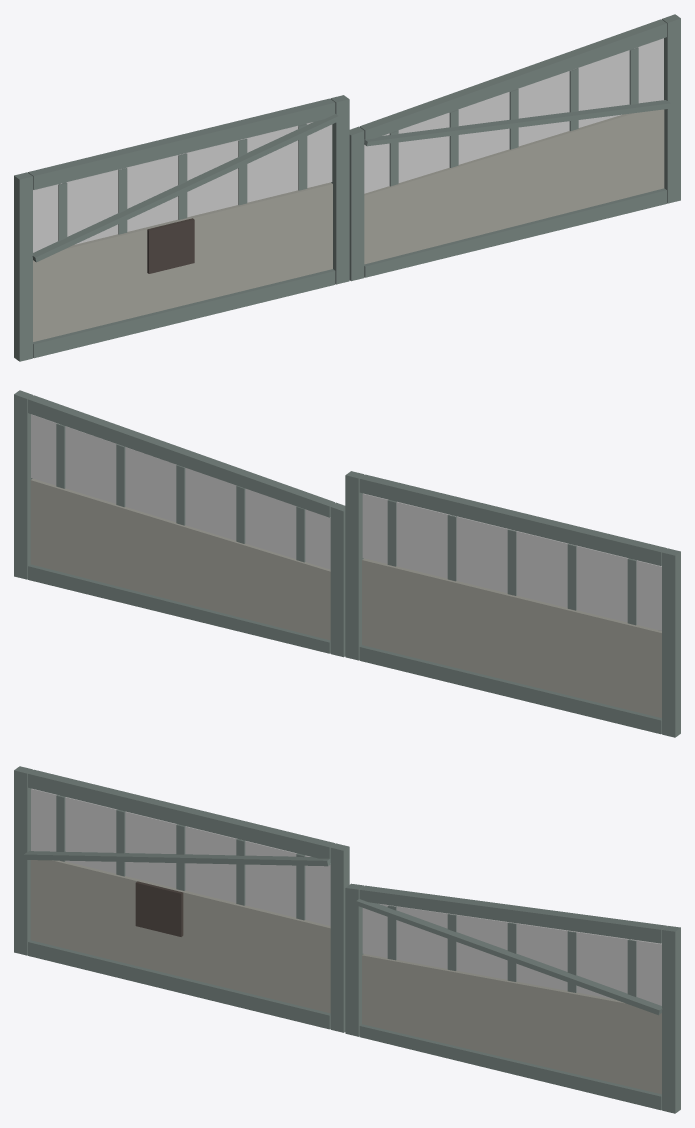
Rendered from SM_PuertaVehiculos_v0_TuboChapa_e1_Danado_LOD1.fbx.
3 views of the same model, one above another, from view 1: azimuth 30°, elevation 25°; view 2: azimuth 150°, elevation 25°; view 3: azimuth 330°, elevation 25° (orthographic).
Parts seen in each view (by area): view 1: Hoja_O, Hoja_E; view 2: Hoja_O, Hoja_E; view 3: Hoja_O, Hoja_E.
Boxes of the visible parts, x1,y1,x2,y2 form: Hoja_O: [14, 95, 349, 361]; Hoja_E: [349, 14, 680, 281]; Hoja_O: [345, 471, 680, 737]; Hoja_E: [14, 390, 345, 657]; Hoja_O: [14, 766, 349, 1032]; Hoja_E: [345, 883, 680, 1113].
Size of what is drawn, in the model's own units: 7.98 by 2.1 by 0.2.
